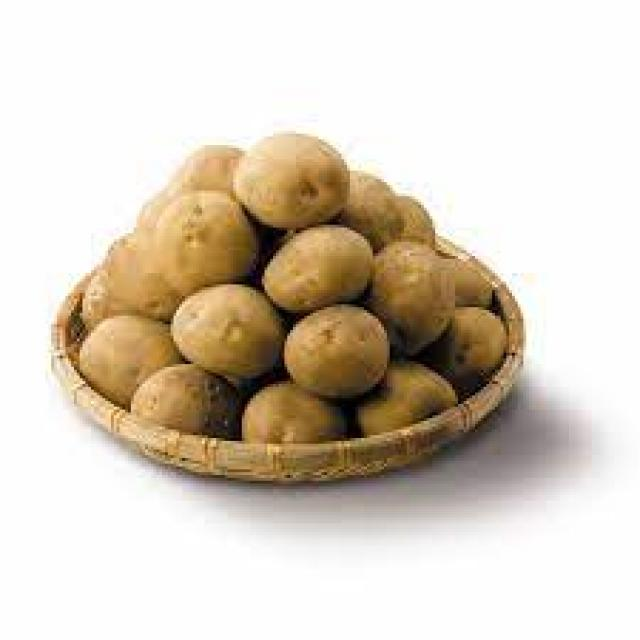Potato: (171, 284, 287, 381), (233, 134, 350, 230), (156, 191, 259, 297), (284, 304, 393, 401), (262, 225, 375, 314), (367, 239, 455, 353)
